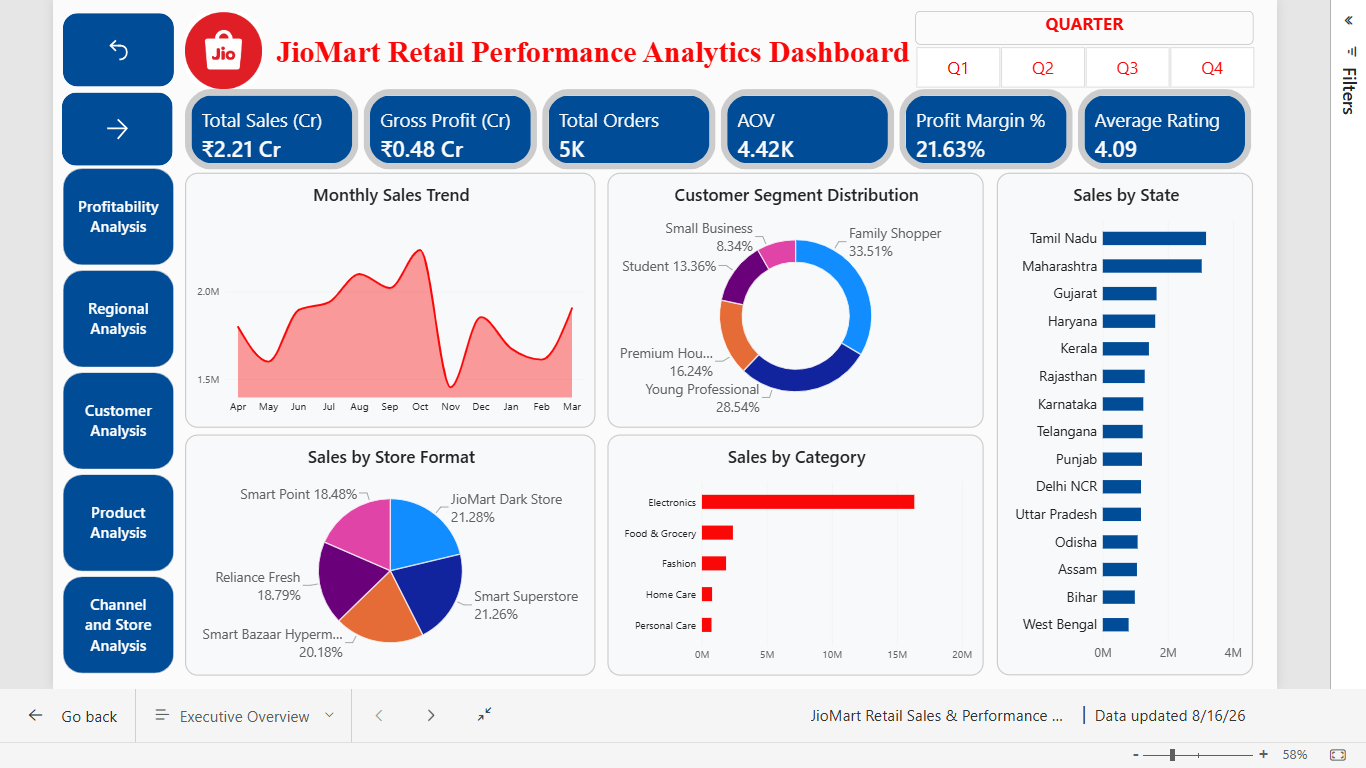

Layout of this report page (visuals, bound fields, positions):
{"tool":"powerbi","page":{"name":"Executive Overview","canvas":[1920,1080],"ordinal":0},"visuals":[{"type":"shape","box":[350,17.5,1002,128],"z":0},{"type":"image","box":[206.5,18.8,120.7,120.7],"z":1000},{"type":"textbox","box":[1352.5,17.5,530,52.5],"z":2000},{"type":"slicer","fields":{"Values":["Date.Quarter"]},"box":[1333.5,72.7,568.7,66.1],"z":3000},{"type":"cardVisual","fields":{"Data":["Sales Measures.Total Sales (Cr)","Profitability Measures.Total Profit (Cr)","Sales Measures.Total Orders","Customer Measures.AOV","Profitability Measures.Profit Margin %","Other Measures.Average Rating"]},"box":[206.5,139.4,1676,126],"z":4000},{"type":"lineChart","title":"Monthly Sales Trend","fields":{"Category":["Date.Month Short"],"Y":["Sales Measures.Total Sales"]},"box":[206.5,270.8,643.6,399.6],"z":5000},{"type":"clusteredBarChart","title":"Sales by Category","fields":{"Category":["Sales.Category"],"Y":["Sales Measures.Total Sales"]},"box":[868.8,681.1,589.9,378.1],"z":6000},{"type":"clusteredBarChart","title":"Sales by State","fields":{"Category":["Sales.State"],"Y":["Sales Measures.Total Sales"]},"box":[1480.2,270.8,402.2,788.4],"z":7000},{"type":"donutChart","title":"Customer Segment Distribution","fields":{"Category":["Sales.Customer_Segment"],"Y":["Customer Measures.Total Customers"]},"box":[868.8,270.8,589.9,399.6],"z":8000},{"type":"pieChart","title":"Sales by Store Format","fields":{"Category":["Sales.Store_Format"],"Y":["Sales Measures.Total Sales"]},"box":[206.5,681.1,643.6,378.1],"z":9000},{"type":"pageNavigator","box":[15.4,264.5,174.1,795.7],"z":10000},{"type":"actionButton","box":[15.4,19.8,174.1,115],"z":11000},{"type":"actionButton","box":[13.4,144.8,174,115],"z":12000}]}

Visuals, with their boxes on the page's 1920x1080 design canvas (x1, y1, x2, y2). These are canvas units, not pixel positions in the 1366x768 screenshot, which may show the page scaled, cropped or inside an application window:
shape: select_region(350, 18, 1352, 146)
image: select_region(206, 19, 327, 140)
textbox: select_region(1352, 18, 1882, 70)
slicer - Date.Quarter: select_region(1334, 73, 1902, 139)
cardVisual - Sales Measures.Total Sales (Cr) x Profitability Measures.Total Profit (Cr): select_region(206, 139, 1882, 265)
"Monthly Sales Trend" lineChart: select_region(206, 271, 850, 670)
"Sales by Category" clusteredBarChart: select_region(869, 681, 1459, 1059)
"Sales by State" clusteredBarChart: select_region(1480, 271, 1882, 1059)
"Customer Segment Distribution" donutChart: select_region(869, 271, 1459, 670)
"Sales by Store Format" pieChart: select_region(206, 681, 850, 1059)
pageNavigator: select_region(15, 264, 190, 1060)
actionButton: select_region(15, 20, 190, 135)
actionButton: select_region(13, 145, 187, 260)
